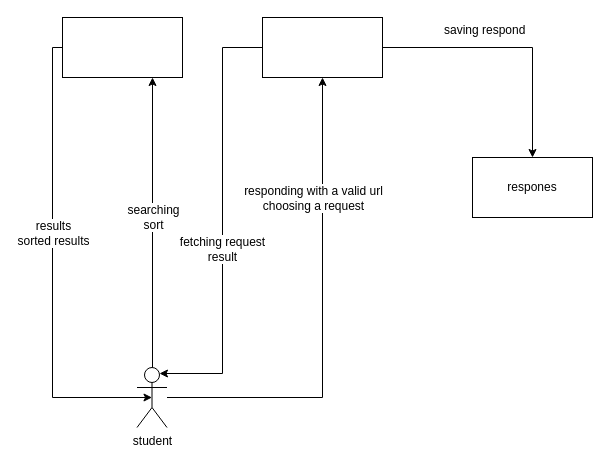
Some shapes in this 610 by 466 pixel diagram are drawn without their labels. Each missing label, with the centre of its shape:
respond page: the point at 322,47
search for requests: the point at 122,47
